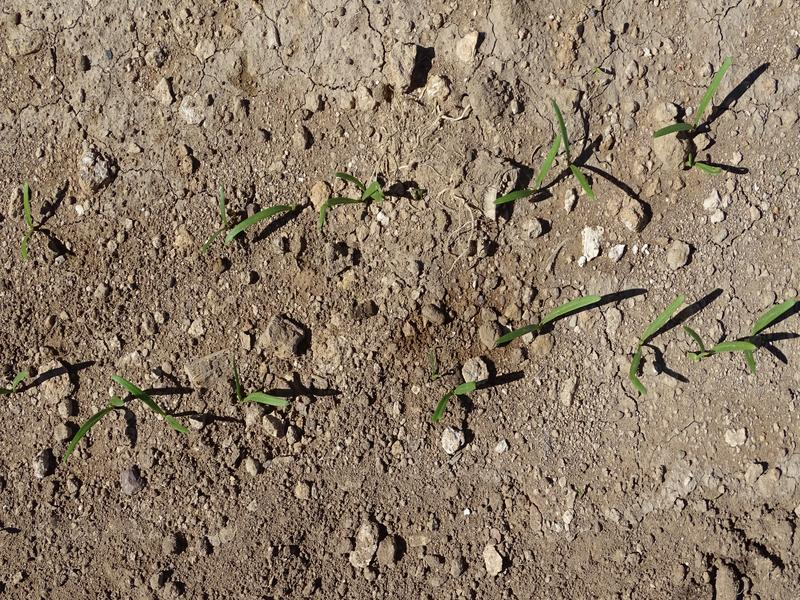Espinaca: (497, 99, 594, 215), (653, 58, 731, 176), (694, 298, 793, 371), (618, 297, 690, 394), (494, 294, 607, 346), (207, 185, 302, 242), (109, 378, 197, 438), (312, 167, 386, 216), (431, 380, 476, 424), (224, 380, 286, 407)
